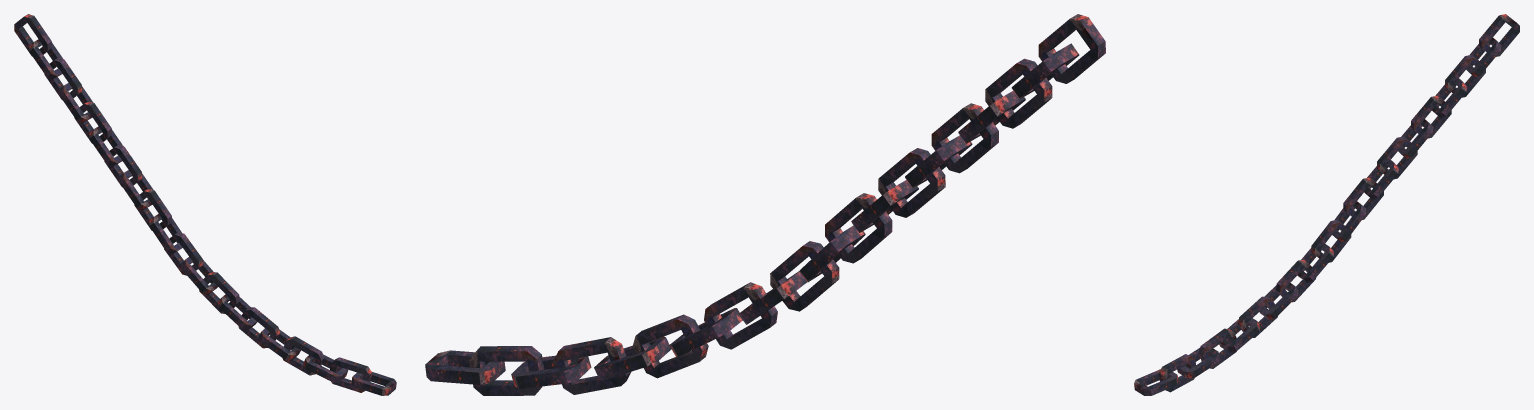
Rendered from chain.glb.
The picture shows the model from 3 angles, left to right: view 1: azimuth 30°, elevation 25°; view 2: azimuth 210°, elevation 25°; view 3: azimuth 270°, elevation 25°; orthographic projection. The views are drawn at different scales.
Visible parts, largest first — view 1: chain; view 2: chain; view 3: chain.
Part boxes in pixels (<box>): chain: <box>14,14,396,395</box>; chain: <box>425,14,1105,395</box>; chain: <box>1134,14,1519,395</box>.
Size of the model in its own units: 6.42 by 9.11 by 10.84.
Materials: 1 (1 with a texture image).
